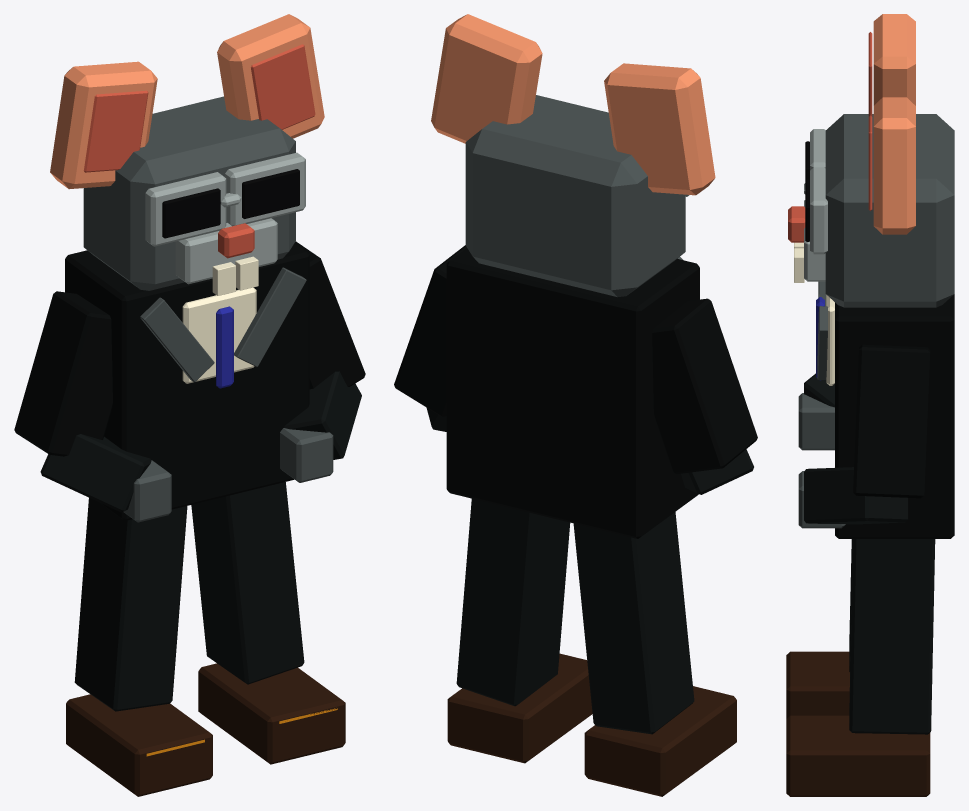
File: TimCheese_Mini.glb
3 views of the same model, side by side, from view 1: azimuth 30°, elevation 25°; view 2: azimuth 150°, elevation 25°; view 3: azimuth 270°, elevation 25° (orthographic). The views are drawn at different scales.
Parts seen in each view (by area): view 1: TimCheese_Mini; view 2: TimCheese_Mini; view 3: TimCheese_Mini.
Boxes of the visible parts, x1,y1,x2,y2 form: TimCheese_Mini: (14, 14, 365, 796); TimCheese_Mini: (394, 14, 757, 796); TimCheese_Mini: (786, 14, 954, 796).
Size of the model in its own units: 0.971 by 2 by 0.4472.
Materials: 1 (1 with a texture image).
